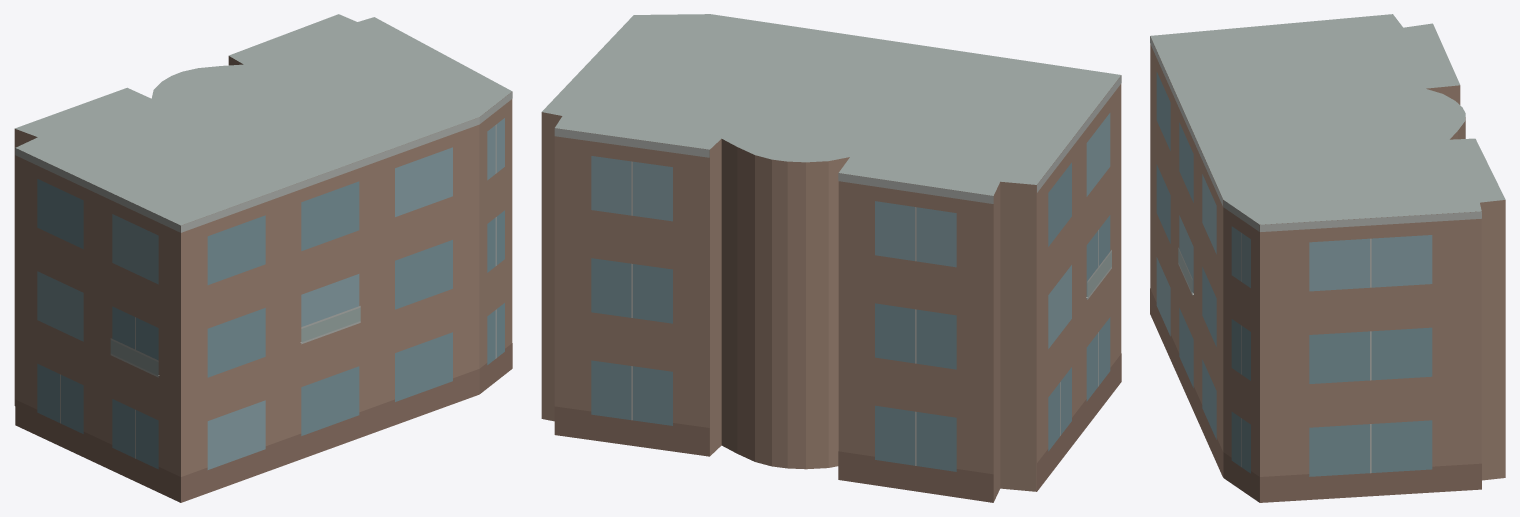
Rendered from survey-upis-33001829.glb.
3 views of the same model, side by side, from view 1: azimuth 30°, elevation 25°; view 2: azimuth 150°, elevation 25°; view 3: azimuth 270°, elevation 25° (orthographic). The views are drawn at different scales.
Parts seen in each view (by area): view 1: survey-upis-33001829.tmp; view 2: survey-upis-33001829.tmp; view 3: survey-upis-33001829.tmp.
Boxes of the visible parts, x1=… form: survey-upis-33001829.tmp: x1=14, y1=14, x2=512, y2=502; survey-upis-33001829.tmp: x1=541, y1=14, x2=1121, y2=502; survey-upis-33001829.tmp: x1=1150, y1=14, x2=1505, y2=502.
Size of the model in its own units: 14.88 by 9.15 by 10.61.
